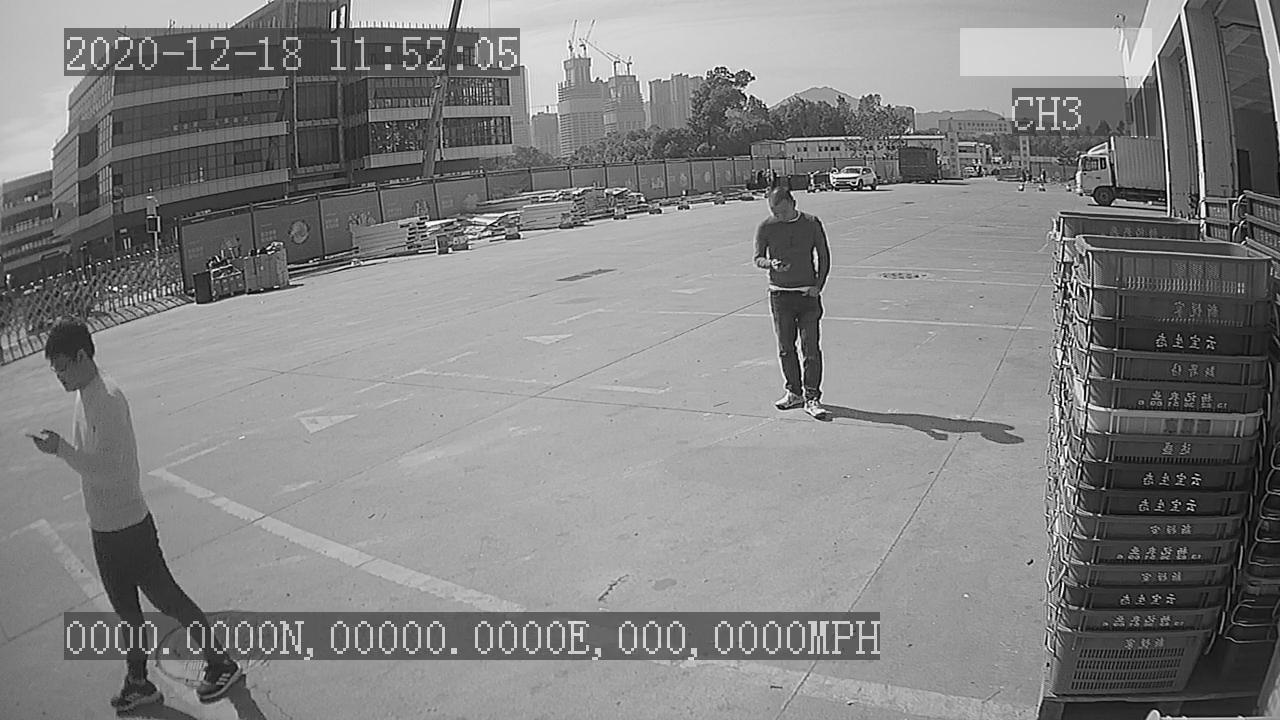person: (743, 183, 836, 424)
